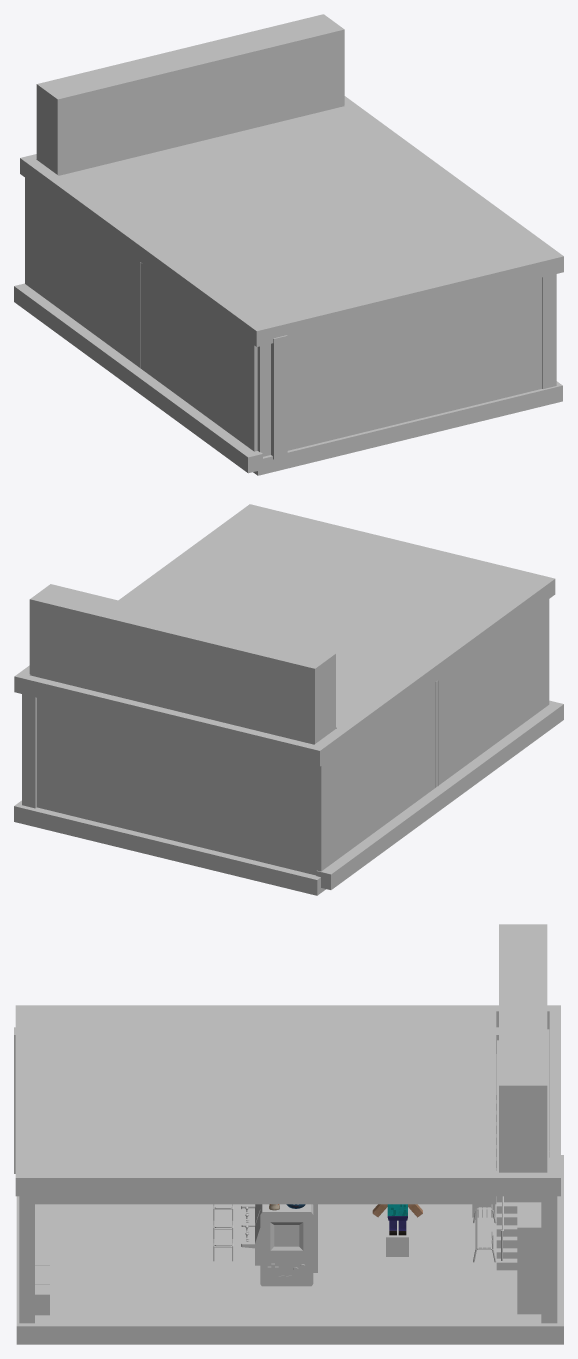
File: _game old 03.fbx
3 renders of one model, top to bottom at view 1: azimuth 30°, elevation 25°; view 2: azimuth 150°, elevation 25°; view 3: azimuth 270°, elevation 25°, orthographic. The views are drawn at different scales.
Parts seen in each view (by area): view 1: Cube.040, Cube.035, Cube.015, Cube.011, Cube.051, Cube.042, Cube.005, Cube.041; view 2: Cube.040, Cube.008, Cube.015, Cube.011, Cube.051, Cube.042, Cube.074; view 3: Cube.040, Cube.042, Cube.015, Cube.045, Cube.082, Cube.074, Cube.041, Cube.016, Plane.003, Cube.046, Cube.018, Cube.061 (+1 smaller).
Boxes of the visible parts, x1,y1,x2,y2 form: Cube.040: (20,96,563,346); Cube.035: (257,277,542,456); Cube.015: (36,14,344,175); Cube.011: (25,178,257,451); Cube.051: (14,283,262,473); Cube.042: (253,381,562,475); Cube.005: (271,335,287,459); Cube.041: (542,274,556,388); Cube.040: (14,504,555,766); Cube.008: (37,698,317,875); Cube.015: (29,584,335,744); Cube.011: (317,599,549,871); Cube.051: (316,700,563,889); Cube.042: (14,800,325,895); Cube.074: (22,694,36,808); Cube.040: (15,1005,560,1204); Cube.042: (16,1155,563,1344); Cube.015: (497,924,549,1172); Cube.045: (260,1204,313,1286); Cube.082: (517,1203,541,1314); Cube.074: (541,1196,557,1323); Cube.041: (19,1196,34,1323); Cube.016: (496,1054,541,1270); Plane.003: (473,1204,496,1262); Cube.046: (372,1204,422,1235); Cube.018: (386,1227,408,1256); Cube.061: (274,1225,299,1246).
Bounding box in the file's own units: 531 × 355 × 696.
